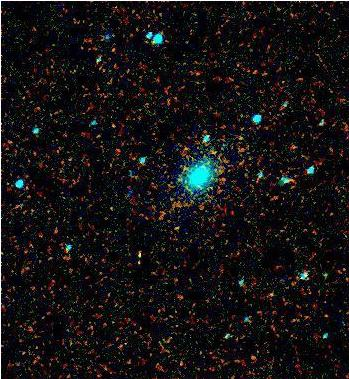star: (41, 127, 71, 157)
